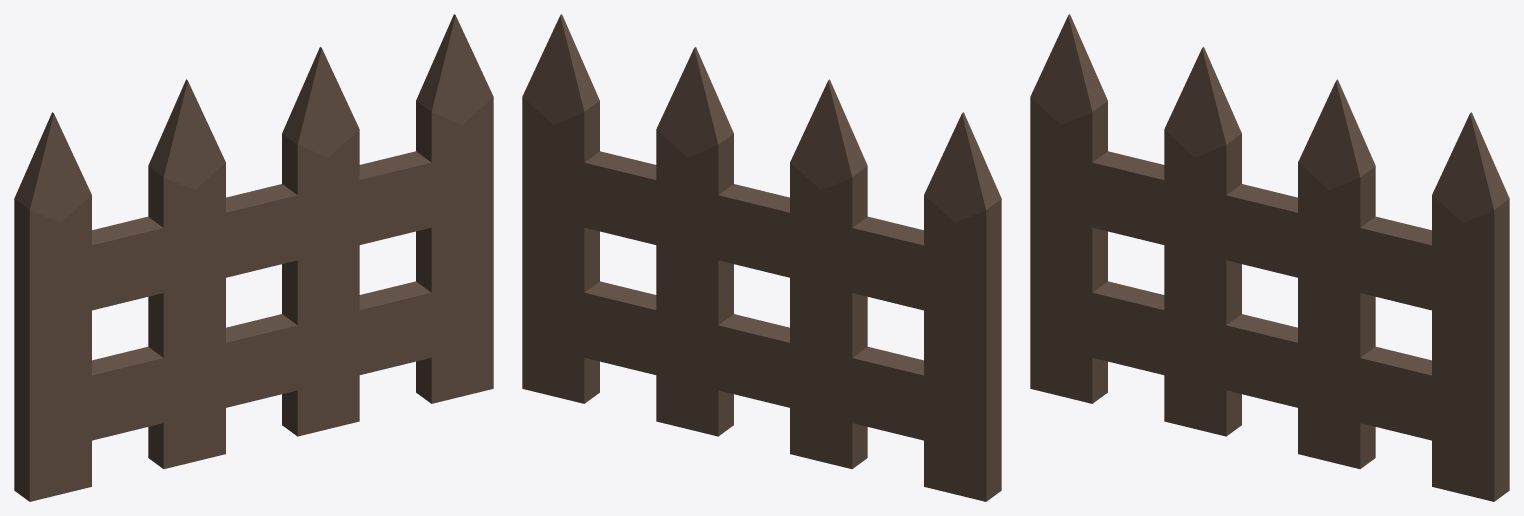
File: Fence.fbx
3 views of the same model, side by side, from view 1: azimuth 30°, elevation 25°; view 2: azimuth 150°, elevation 25°; view 3: azimuth 330°, elevation 25° (orthographic).
Parts seen in each view (by area): view 1: Fence; view 2: Fence; view 3: Fence.
Boxes of the visible parts, bbox=[...] form: Fence: bbox=[14, 14, 493, 501]; Fence: bbox=[522, 14, 1001, 501]; Fence: bbox=[1030, 14, 1509, 501].
Bounding box in the file's own units: 53.27 × 41.26 × 3.1.
